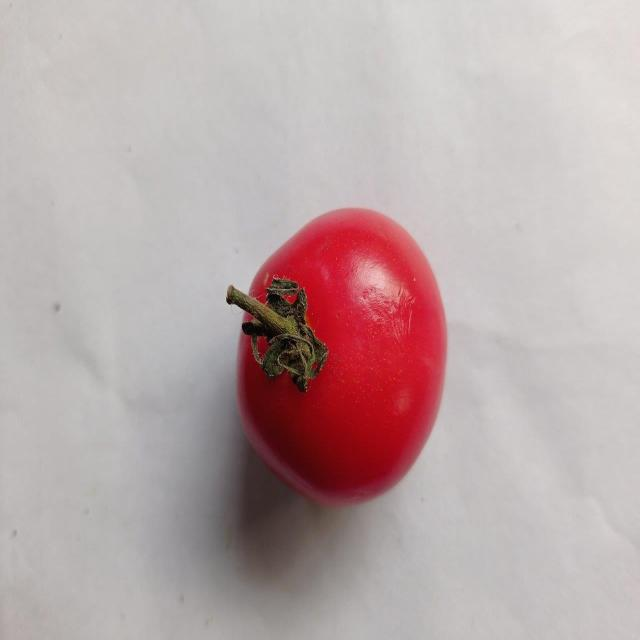Tomato: (225, 206, 449, 507)
